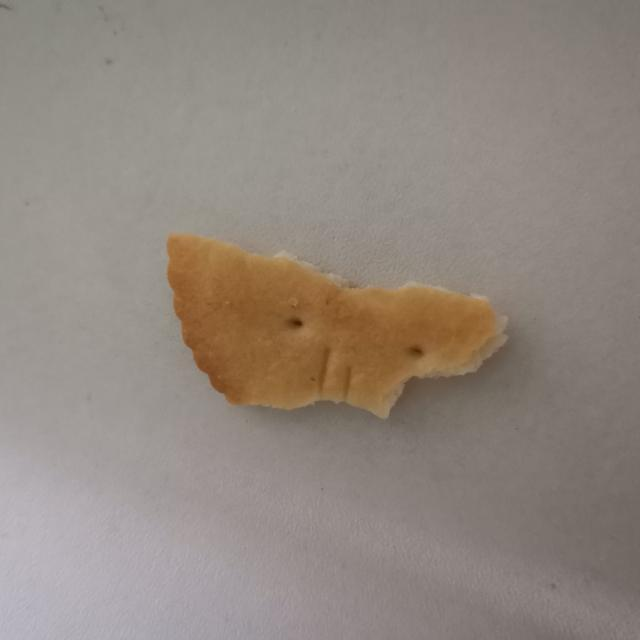Broken: (165, 230, 510, 420)
